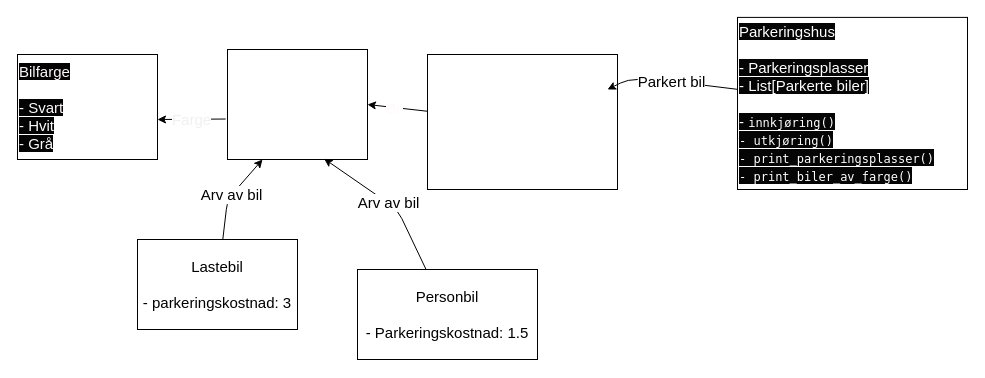
The diagram is 985 pixels wide and 378 high, and some of its shapes have lost their labels. Each missing label, with the centre of its shape:
"Bil - Nummerskilt - Farge - Bilmerke" belongs at point 297,104.
"Parkert bil - tidspunkt - Bil - beregn_kostnad() - beregn_minutter()" belongs at point 522,122.
